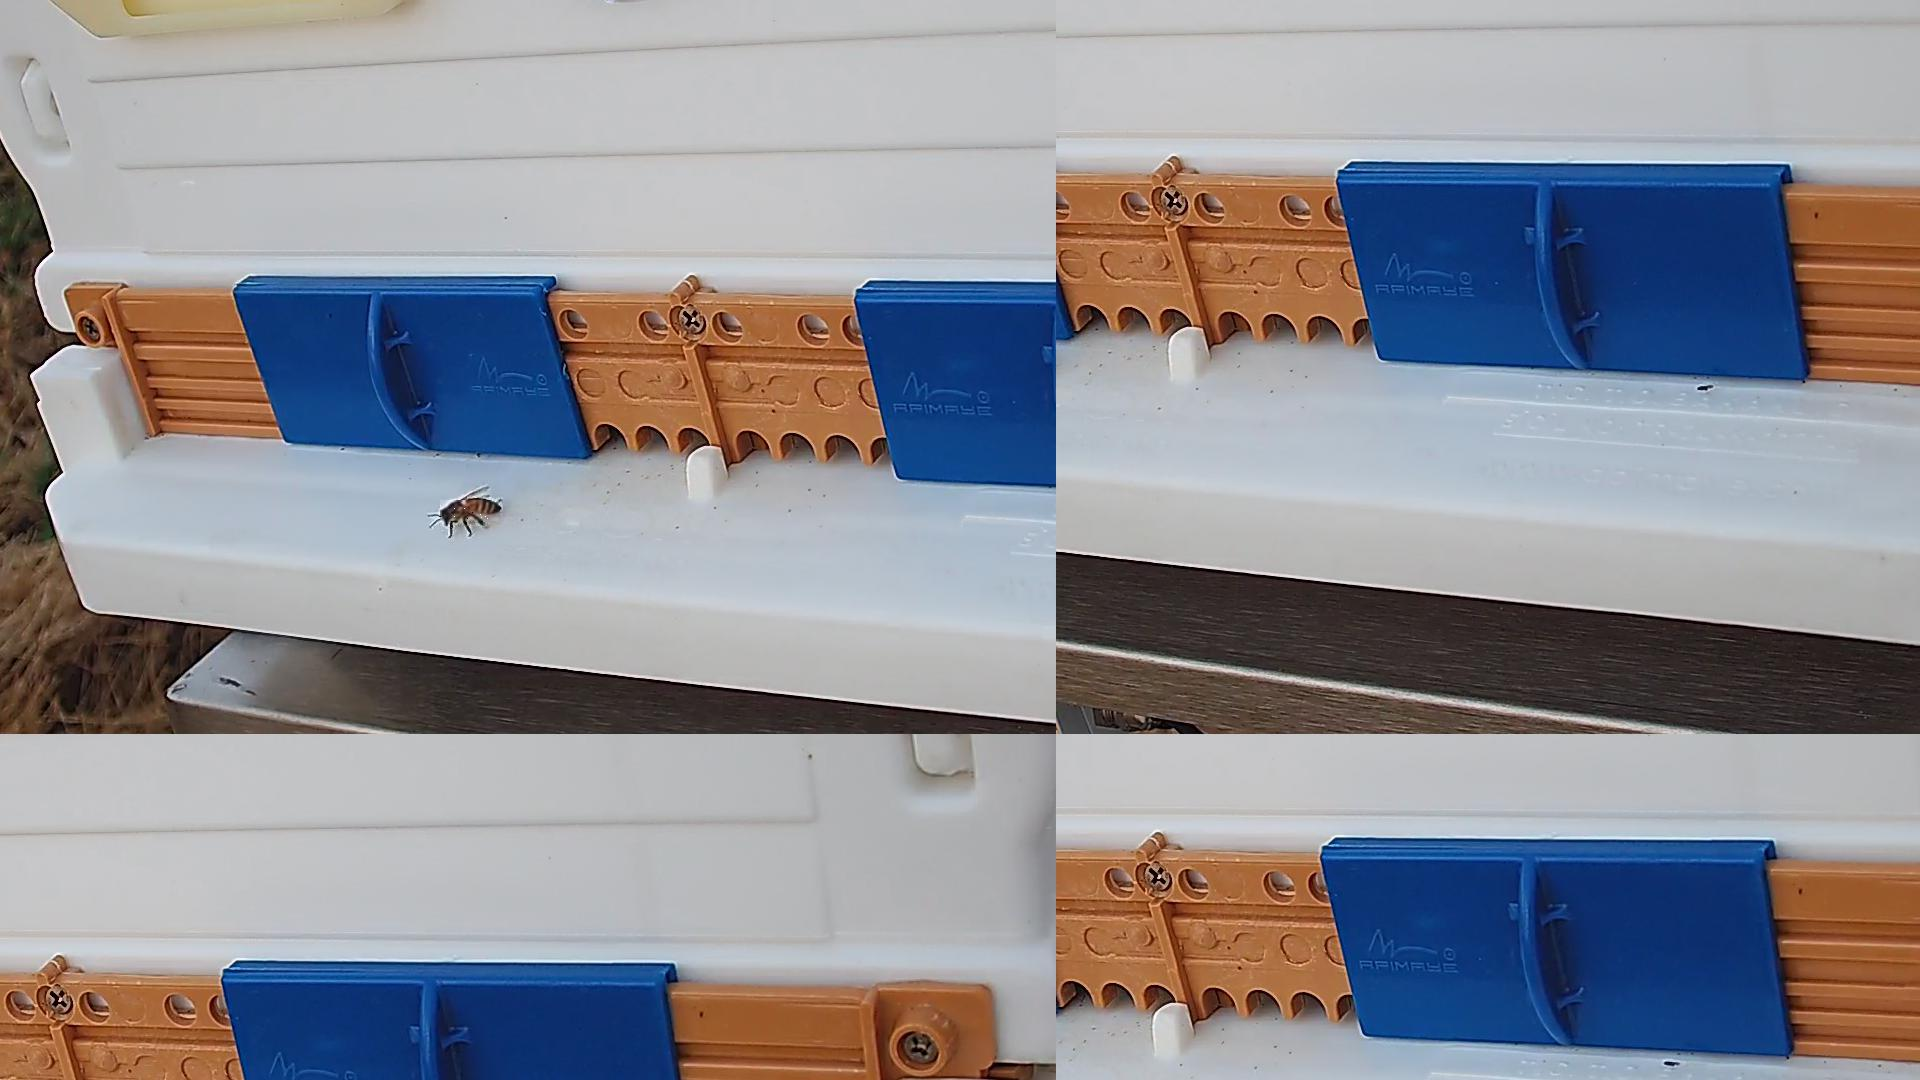bee: (440, 500, 500, 522)
